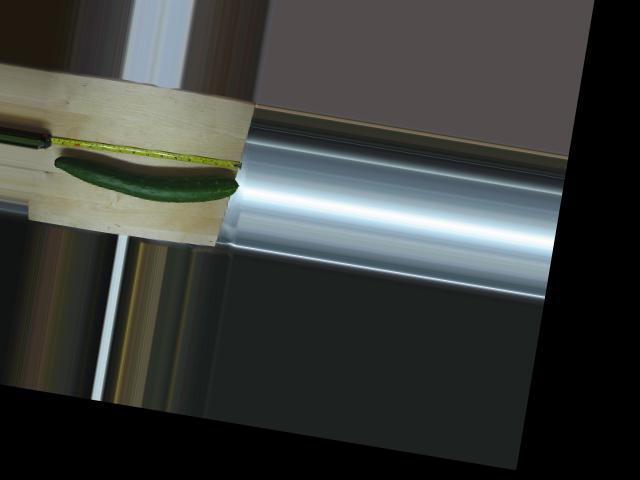cucumber: (50, 147, 239, 213)
